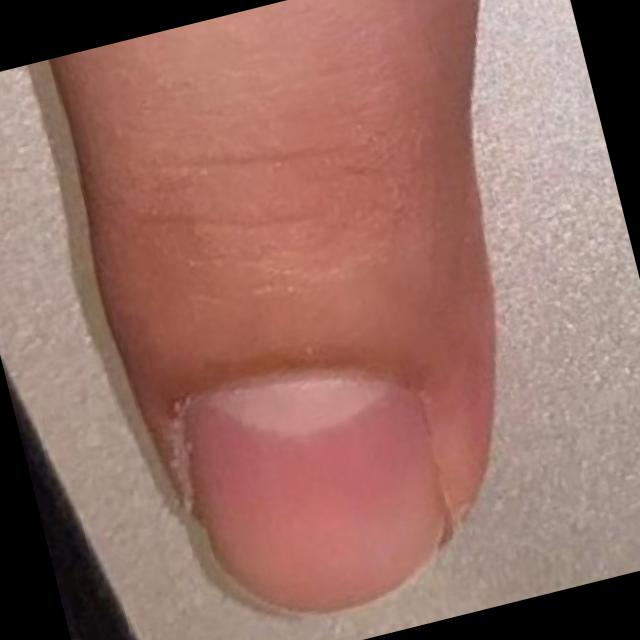Nail: (183, 373, 446, 610)
